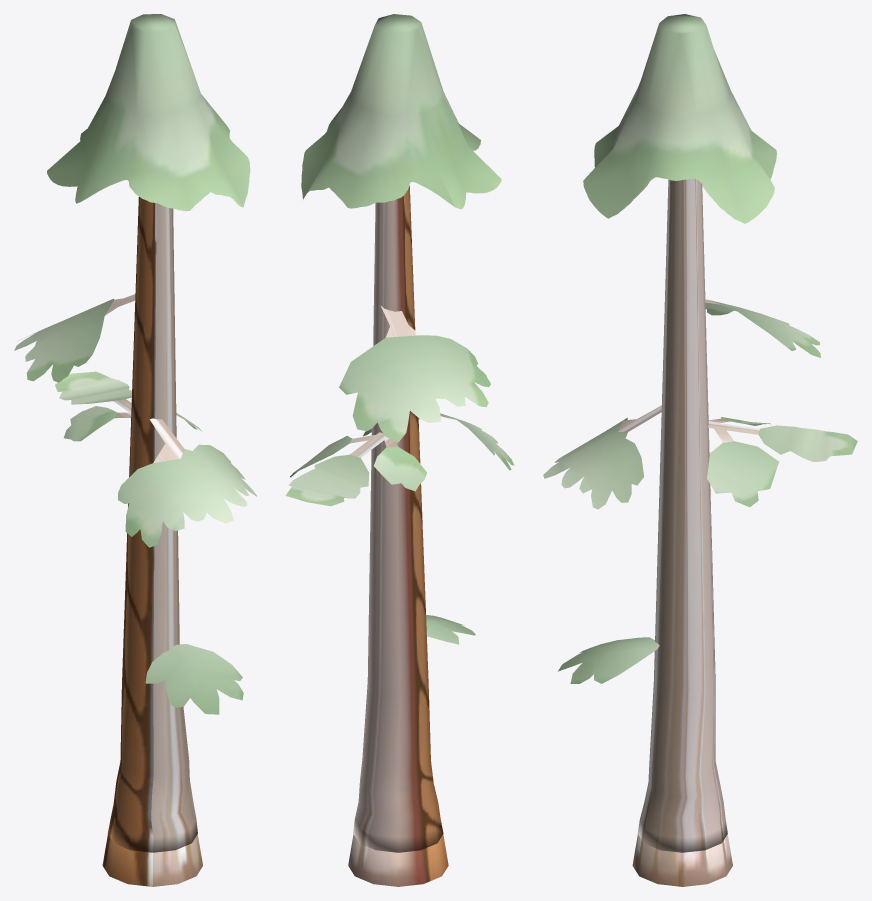
Rendered from TreePineSmall_b.fbx.
The picture shows the model from 3 angles, left to right: view 1: azimuth 30°, elevation 25°; view 2: azimuth 150°, elevation 25°; view 3: azimuth 270°, elevation 25°; orthographic projection.
Visible parts, largest first — view 1: TreePineCrownSmall1a, TreePineStumpSmallB; view 2: TreePineCrownSmall1a, TreePineStumpSmallB; view 3: TreePineCrownSmall1a, TreePineStumpSmallB.
Boxes of the visible parts, left/top/right/bottom form: TreePineCrownSmall1a: left=14, top=14, right=256, bottom=852; TreePineStumpSmallB: left=102, top=834, right=202, bottom=886; TreePineCrownSmall1a: left=286, top=14, right=514, bottom=852; TreePineStumpSmallB: left=348, top=834, right=448, bottom=886; TreePineCrownSmall1a: left=543, top=14, right=857, bottom=852; TreePineStumpSmallB: left=632, top=834, right=732, bottom=886.
Size of what is drawn, in the model's own units: 0.789 by 3.39 by 1.15.
